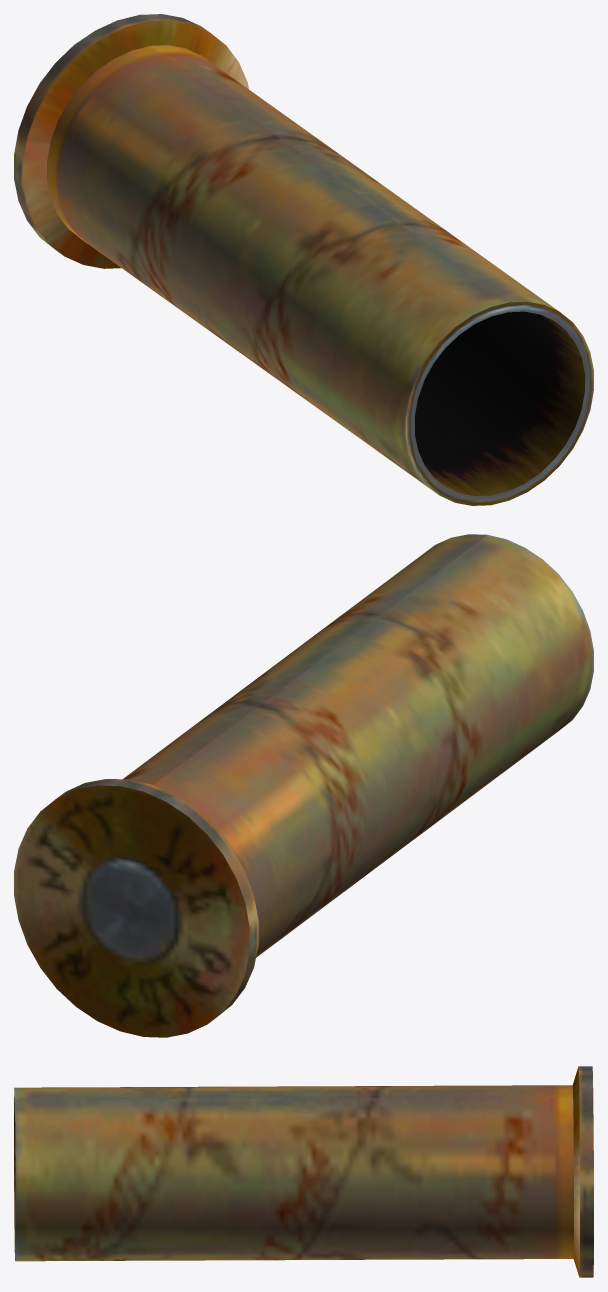
The model's file is bullet.obj.
The picture shows the model from 3 angles, top to bottom: view 1: azimuth 30°, elevation 25°; view 2: azimuth 150°, elevation 25°; view 3: azimuth 270°, elevation 25°; orthographic projection. The views are drawn at different scales.
Parts seen in each view (by area): view 1: bayomat0; view 2: bayomat0; view 3: bayomat0.
Boxes of the visible parts, bbox=[...] form: bayomat0: bbox=[14, 14, 593, 505]; bayomat0: bbox=[14, 534, 593, 1037]; bayomat0: bbox=[14, 1066, 593, 1277].
Size of the model in its own units: 0.2252 by 0.2251 by 0.62.
1 material, 1 textured.
